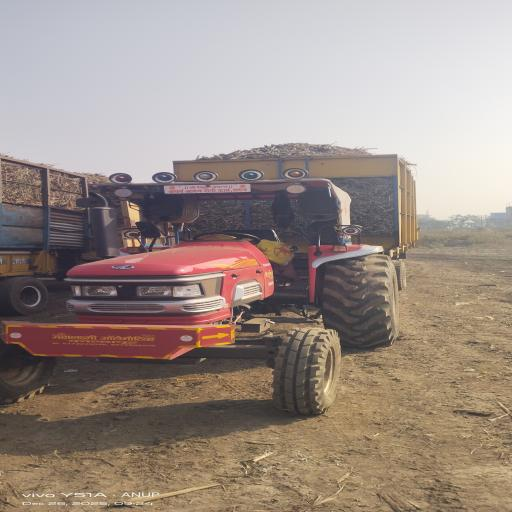number_plate: (45, 326, 170, 354)
